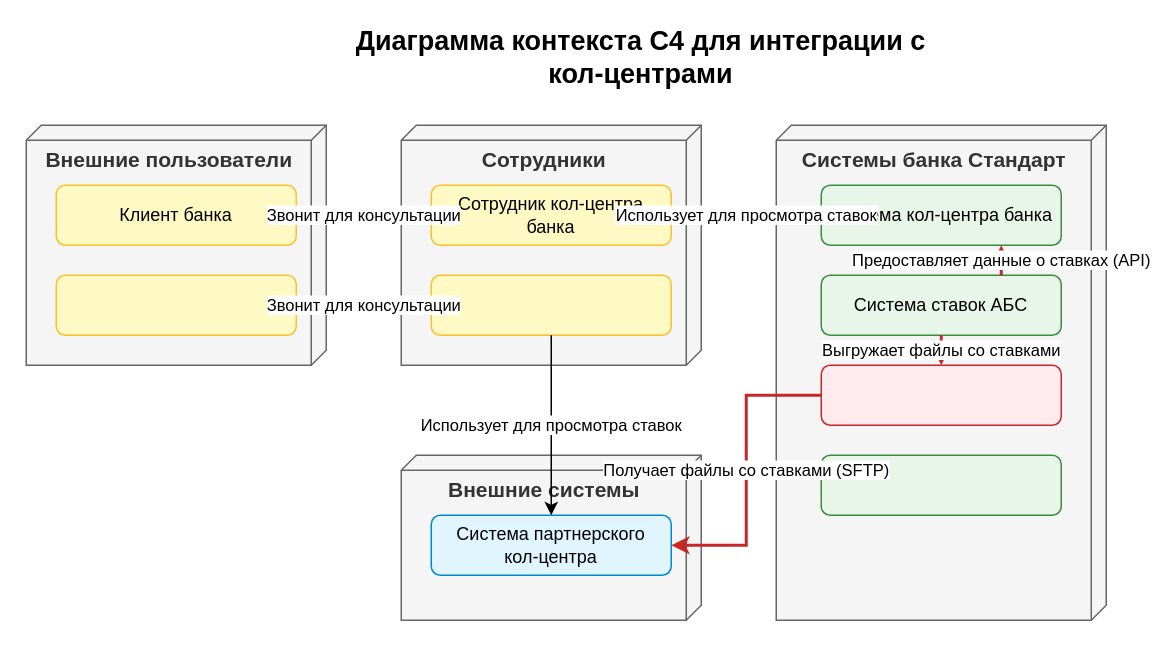
Image size: 1176x647. Some labels were removed from this diagram. Each missing label, with the centre of its shape:
"SFTP-сервер банка" goes at point (940, 394).
"Интеграционная шина" goes at point (940, 484).
"Потенциальный клиент" goes at point (175, 304).
"Сотрудник партнерского кол-центра" goes at point (550, 304).
